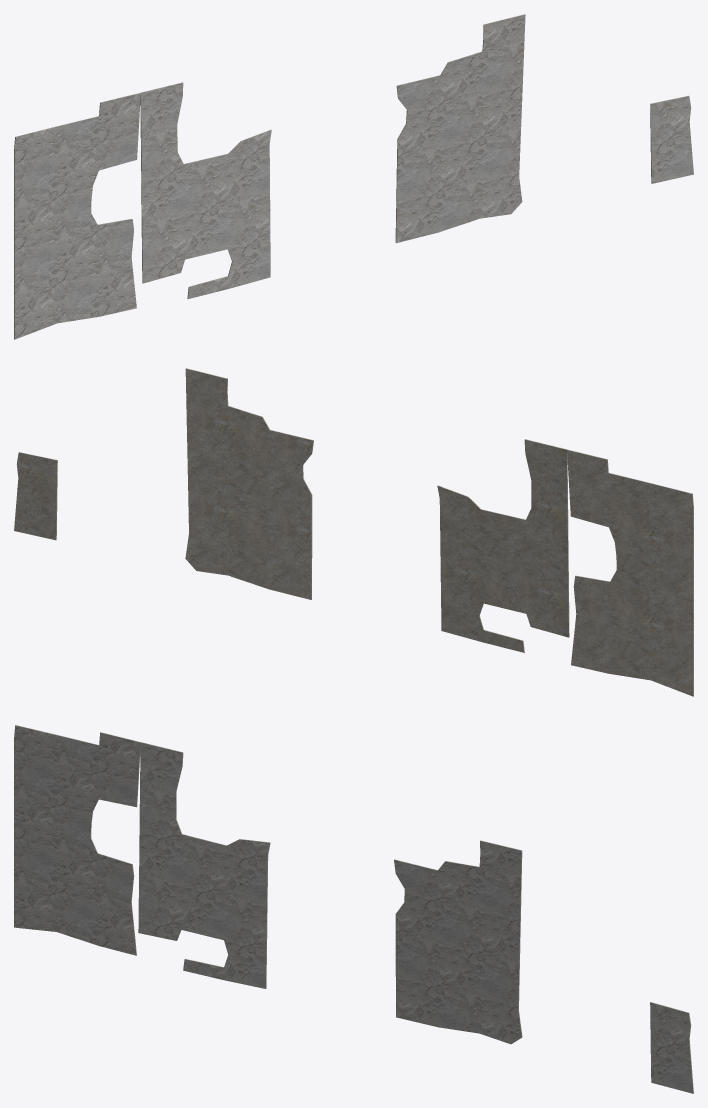
Rendered from WallpapperTrippleC.fbx.
3 views of the same model, one above another, from view 1: azimuth 30°, elevation 25°; view 2: azimuth 150°, elevation 25°; view 3: azimuth 330°, elevation 25° (orthographic).
Visible parts, largest first — view 1: WallpapperTrippleC; view 2: WallpapperTrippleC; view 3: WallpapperTrippleC.
Part boxes in pixels (bbox=[...]): WallpapperTrippleC: bbox=[14, 14, 693, 339]; WallpapperTrippleC: bbox=[14, 368, 693, 696]; WallpapperTrippleC: bbox=[14, 725, 693, 1093].
Bounding box in the file's own units: 1210 × 368 × 8.6.
